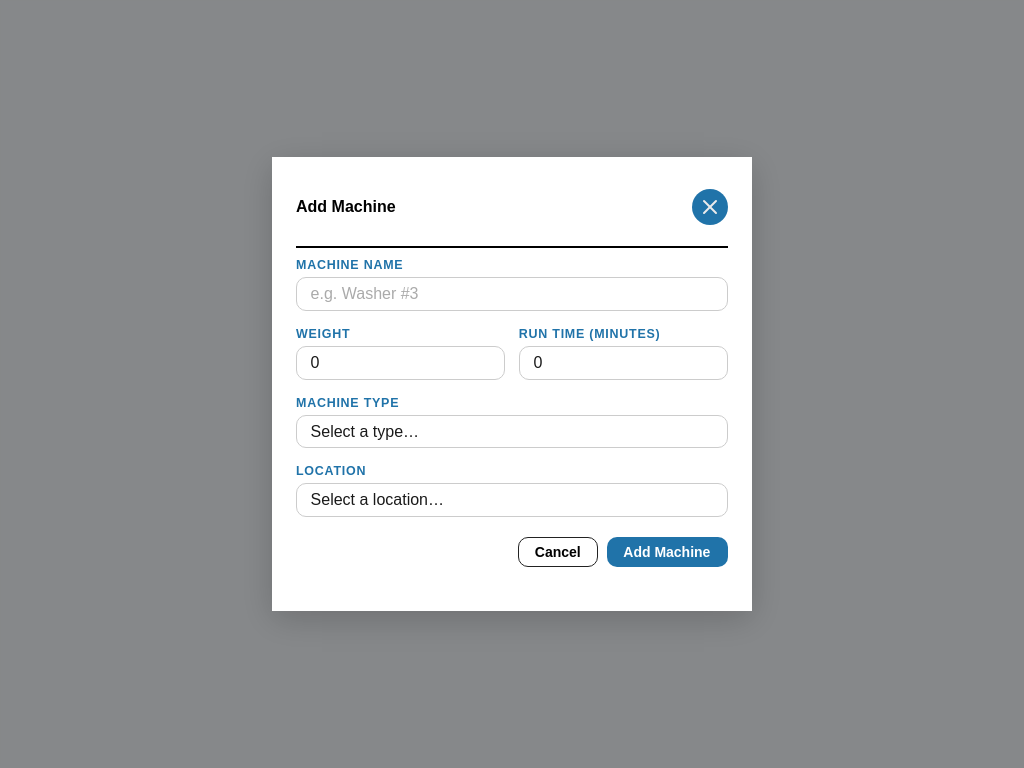
Test: AddMachineModal › submission › shows error banner when addMachines throws
Click the button "Add Machine" at (668, 552), box [607, 536, 728, 567]
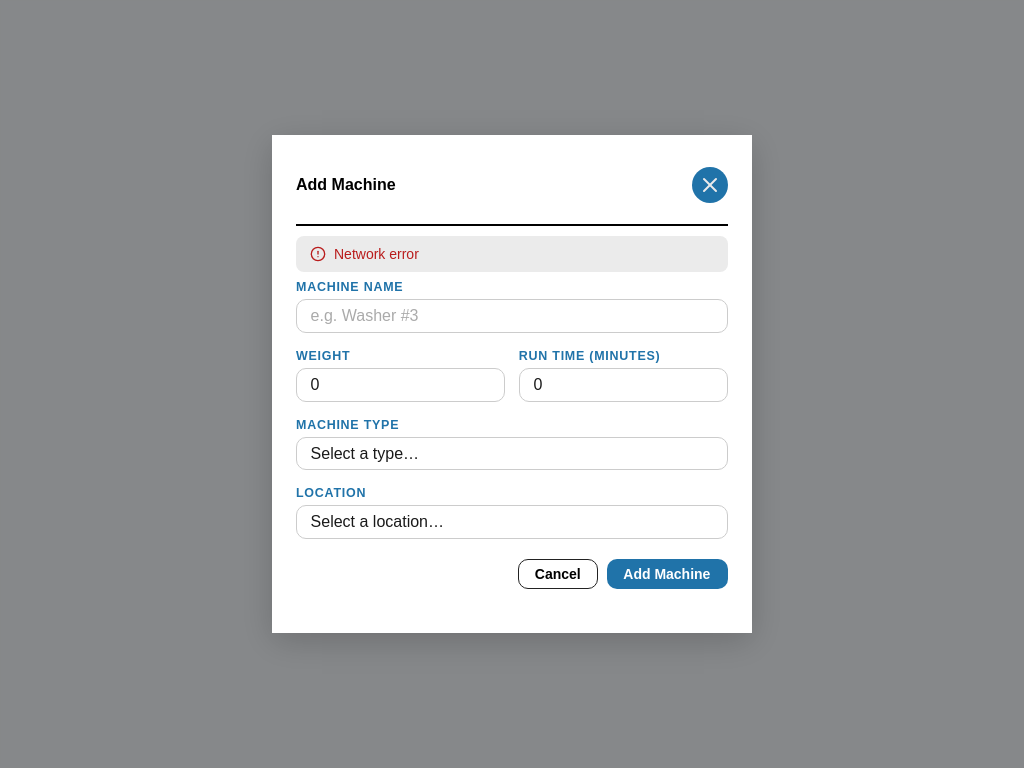
Result: the text "Network error" is shown at [334, 246, 419, 262]
